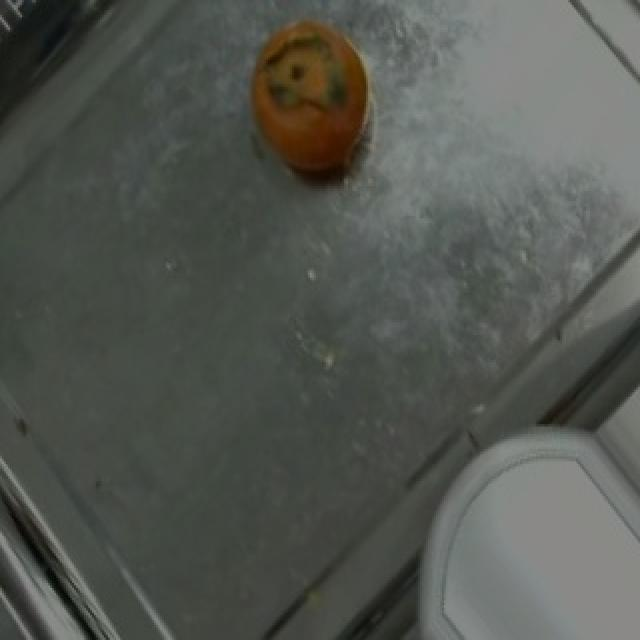Fruit: (416, 434, 638, 640), (228, 0, 398, 193), (526, 330, 640, 536)
